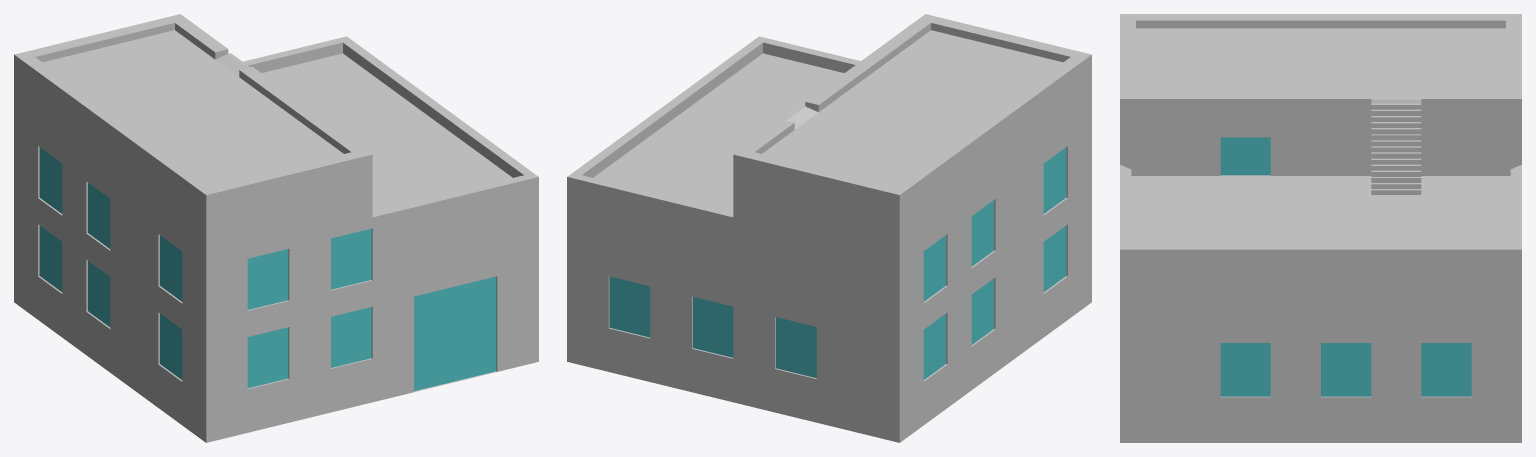
File: BudynekNr3.fbx
3 views of the same model, side by side, from view 1: azimuth 30°, elevation 25°; view 2: azimuth 150°, elevation 25°; view 3: azimuth 270°, elevation 25° (orthographic). The views are drawn at different scales.
Visible parts, largest first — view 1: Plane; view 2: Plane; view 3: Plane.
Part boxes in pixels (bbox=[...]): Plane: bbox=[14, 14, 538, 442]; Plane: bbox=[567, 14, 1091, 442]; Plane: bbox=[1120, 14, 1521, 442].
Size of the model in its own units: 400 by 285 by 400.
